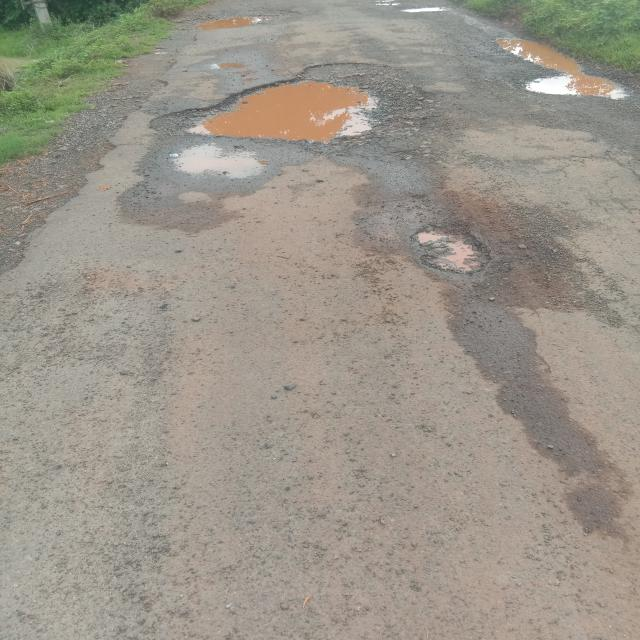potholes: (152, 61, 394, 213), (492, 34, 636, 106), (404, 222, 487, 278), (188, 8, 289, 38), (371, 1, 457, 17)
